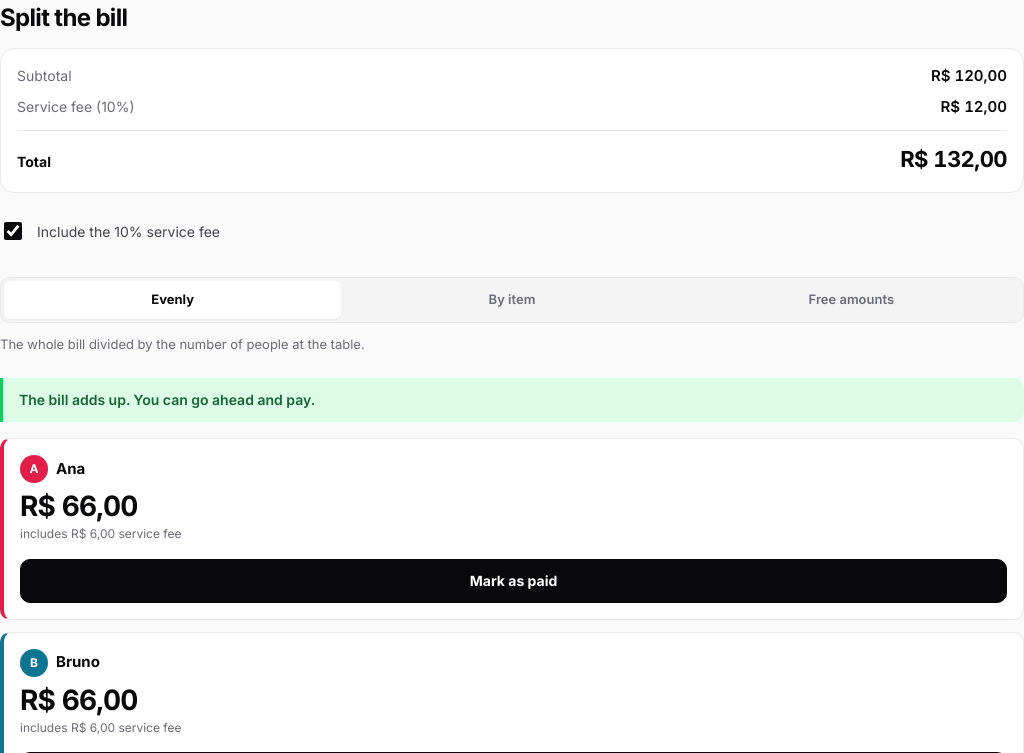
Test: BillPage › charges each diner for their own items in the by item mode
Click the tab "By item" at (512, 300), box [343, 281, 681, 319]
(page scrolled)
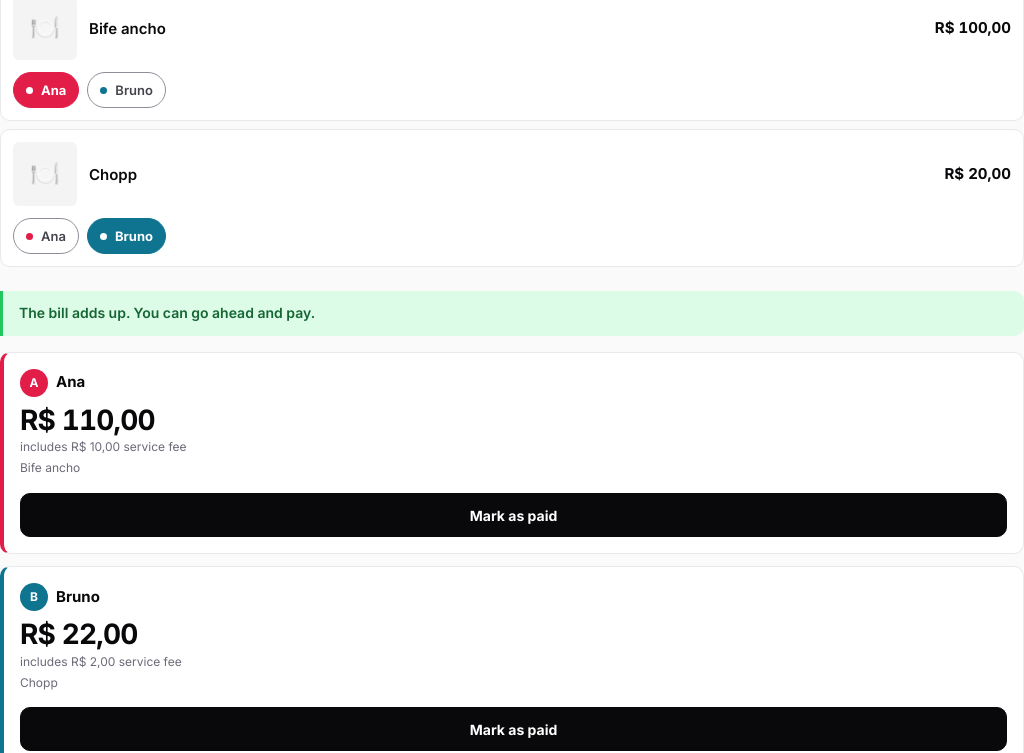
Check: the list item that starts with "Ana" shows "110,00", box [20, 403, 155, 437]
Check: the list item that starts with "Bruno" shows "22,00", box [20, 617, 138, 651]
